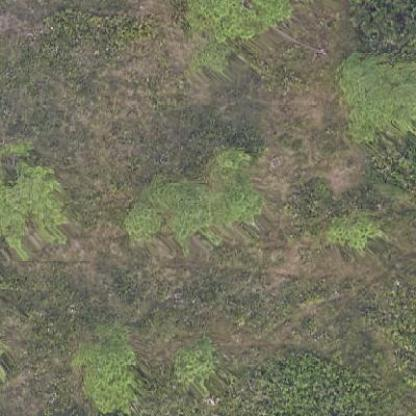tree-top: (116, 147, 272, 247), (170, 0, 296, 75), (328, 47, 415, 143), (67, 323, 144, 414), (0, 161, 67, 260), (168, 340, 223, 388), (324, 206, 376, 252)
